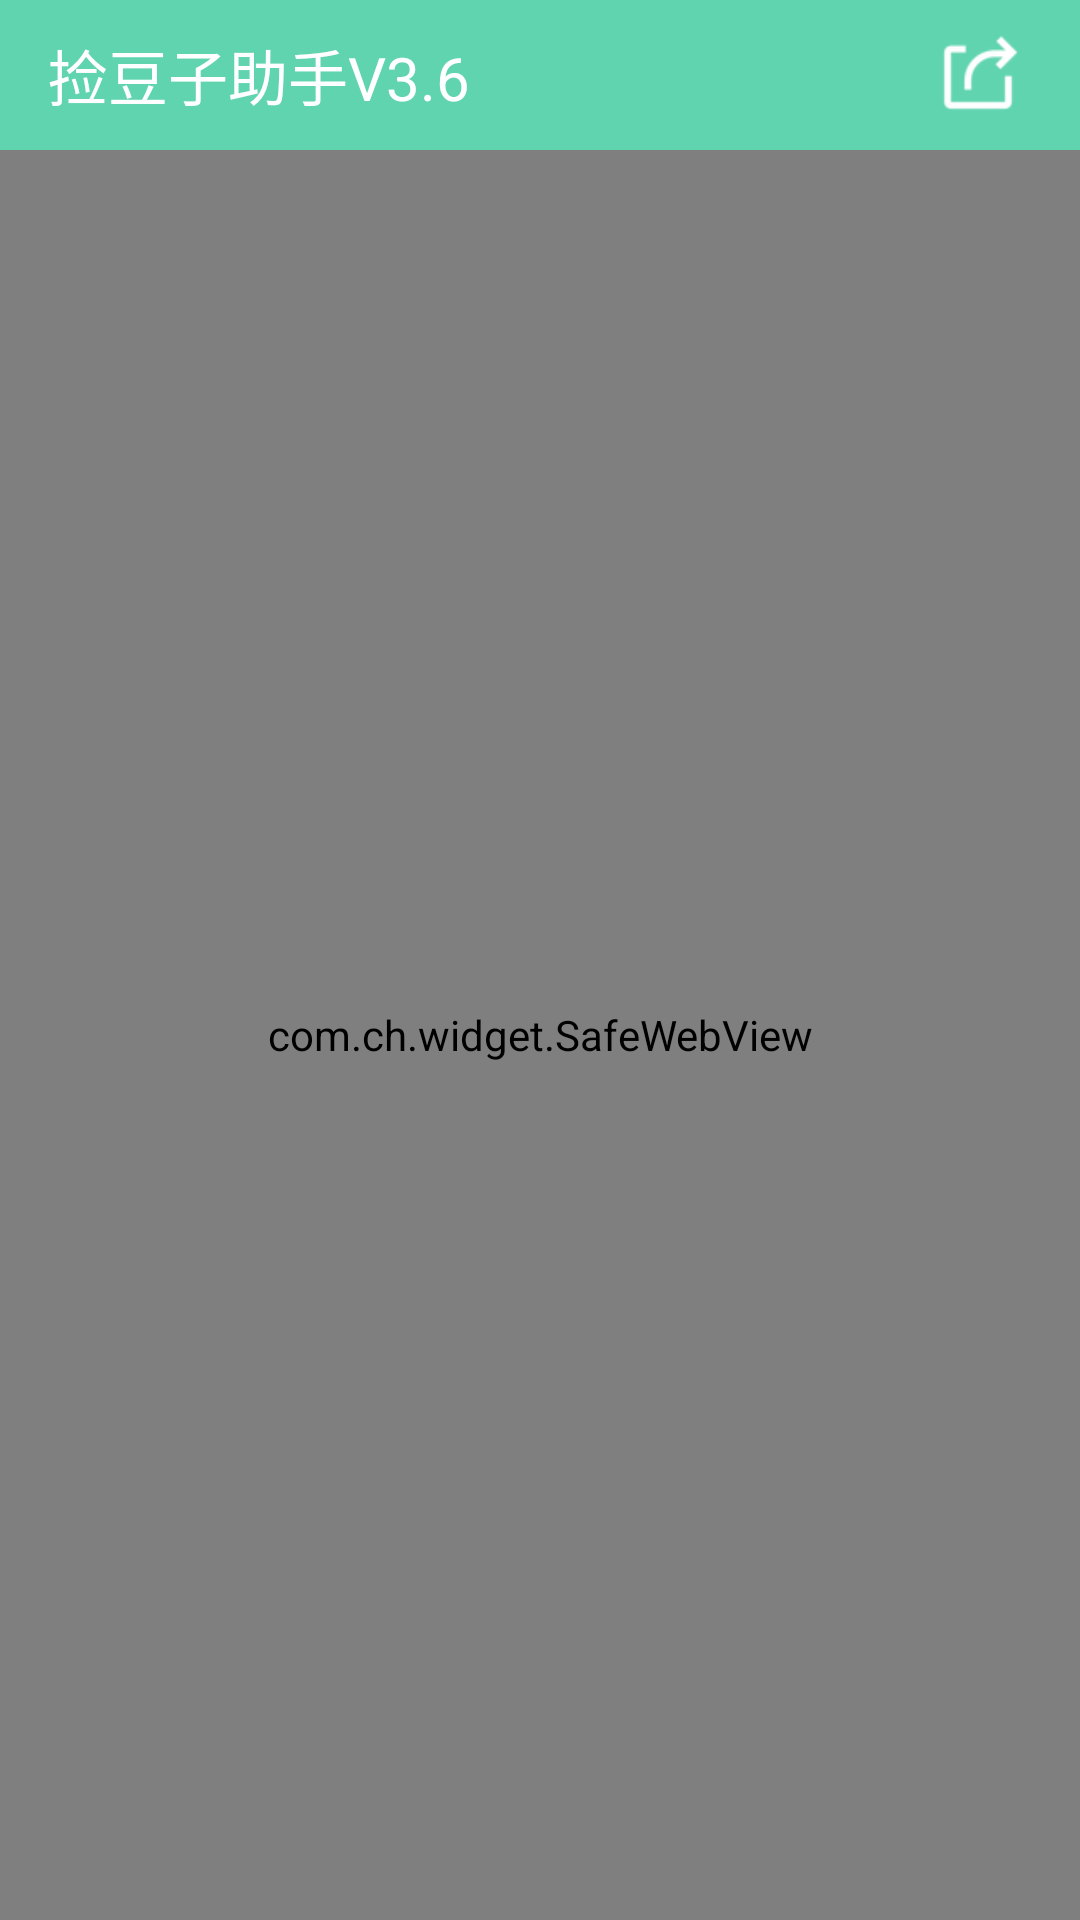

Named icons in this screenshot (1080px×1920px) and their bounding boxes, (x1, y1, x2, y2):
share: (944, 36, 1017, 109)
